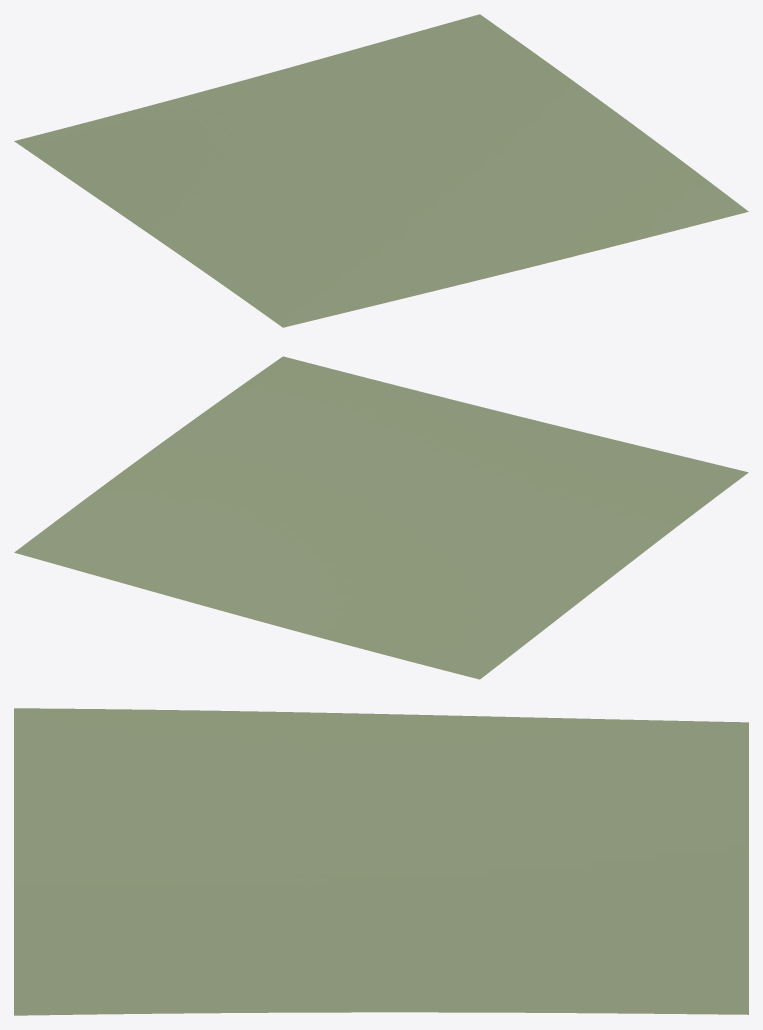
File: expanse-9-30.glb
The picture shows the model from 3 angles, top to bottom: view 1: azimuth 30°, elevation 25°; view 2: azimuth 150°, elevation 25°; view 3: azimuth 270°, elevation 25°; orthographic projection. The views are drawn at different scales.
Parts seen in each view (by area): view 1: expanse-9-30; view 2: expanse-9-30; view 3: expanse-9-30.
Part boxes in pixels (x1,y1,x2,y2): expanse-9-30: (14,14,748,327); expanse-9-30: (14,356,748,679); expanse-9-30: (14,708,748,1015).
Bounding box in the file's own units: 256 × 7.89 × 256.
